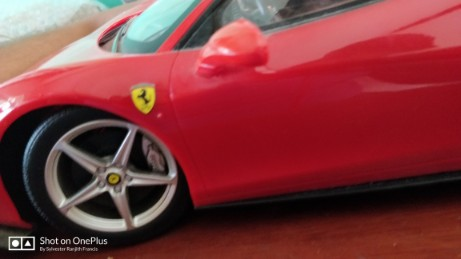unaligned_wheel: (8, 102, 195, 250)
